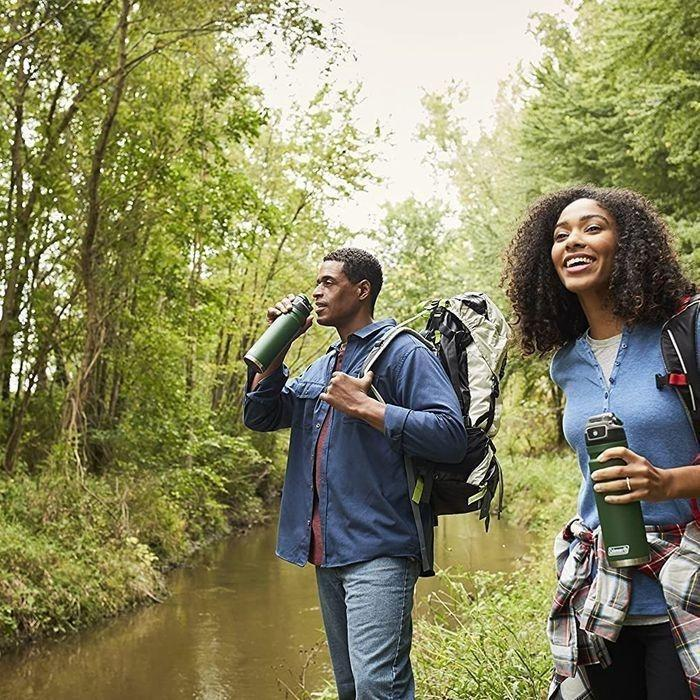gym bottle: (583, 411, 652, 572), (245, 294, 314, 373)
